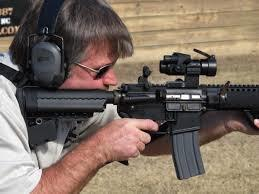gun: (21, 48, 259, 174)
